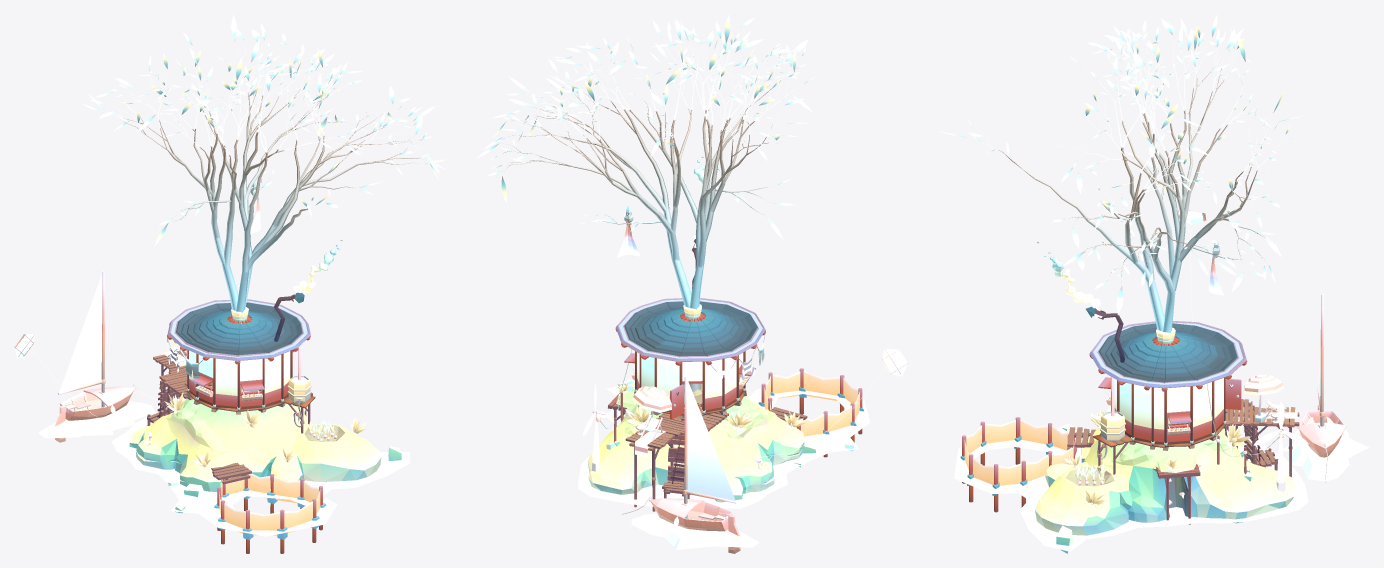
The model's file is island.glb.
3 renders of one model, left to right at view 1: azimuth 30°, elevation 25°; view 2: azimuth 150°, elevation 25°; view 3: azimuth 270°, elevation 25°, orthographic. The views are drawn at different scales.
Visible parts, largest first — view 1: tree, Sphere.002, Plane.007, Circle, Plane, Plane.005, Sphere.001, Plane.029, Plane.008, Sphere.004, Plane.018, Cylinder.025 (+1 smaller); view 2: tree, Sphere.002, Plane.007, Plane, Circle, Plane.005, Sphere.001, Plane.008, Plane.029, Plane.018, Sphere.004, Sphere.003 (+1 smaller); view 3: tree, Sphere.002, Plane.007, Circle, Plane.005, Sphere.001, Plane.008, Plane, Plane.029, Sphere.004, Plane.018, Cylinder.025 (+3 smaller).
Boxes of the visible parts, box(x1,y1,x2,y2) form: tree: box(81, 14, 445, 389); Sphere.002: box(129, 389, 401, 513); Plane.007: box(167, 299, 310, 361); Circle: box(111, 411, 410, 536); Plane: box(58, 271, 135, 420); Plane.005: box(189, 316, 290, 409); Sphere.001: box(219, 473, 320, 535); Plane.029: box(38, 401, 155, 438); Plane.008: box(147, 351, 312, 484); Sphere.004: box(214, 469, 326, 553); Plane.018: box(167, 315, 310, 411); Cylinder.025: box(287, 345, 311, 402); tree: box(476, 15, 816, 392); Sphere.002: box(587, 379, 853, 502); Plane.007: box(615, 298, 765, 361); Plane: box(649, 376, 736, 531); Circle: box(578, 386, 870, 508); Plane.005: box(637, 320, 743, 412); Sphere.001: box(764, 371, 859, 436); Plane.008: box(608, 384, 807, 496); Plane.029: box(631, 513, 758, 549); Plane.018: box(615, 312, 765, 415); Sphere.004: box(758, 368, 863, 457); Sphere.003: box(631, 386, 671, 412); tree: box(939, 15, 1304, 418); Sphere.002: box(1035, 418, 1295, 553); Plane.007: box(1089, 321, 1246, 388); Circle: box(954, 424, 1308, 551); Plane.005: box(1114, 344, 1223, 444); Sphere.001: box(964, 419, 1074, 485); Plane.008: box(1067, 399, 1299, 524); Plane: box(1297, 293, 1346, 457); Plane.029: box(1283, 431, 1369, 481); Sphere.004: box(960, 417, 1076, 512); Plane.018: box(1089, 337, 1247, 447); Cylinder.025: box(1100, 377, 1125, 441).
Size of what is drawn, in the model's own units: 7.67 by 7.98 by 6.61.
